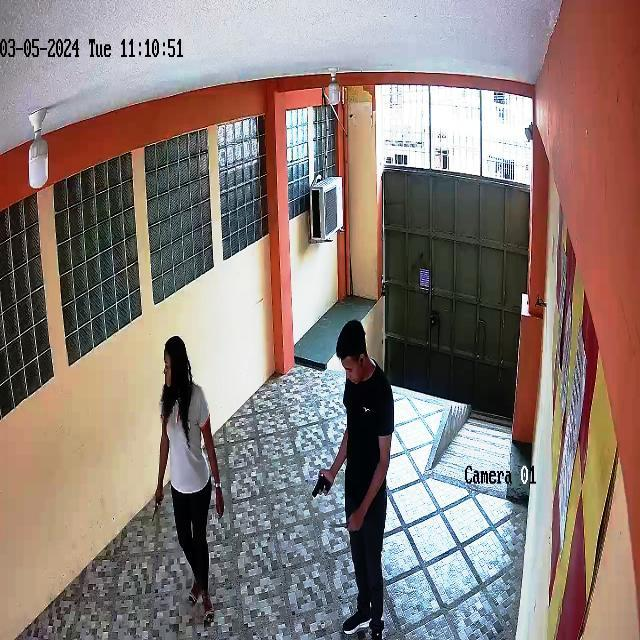Gun: (306, 458, 334, 511)
Knife: (139, 494, 174, 533)
